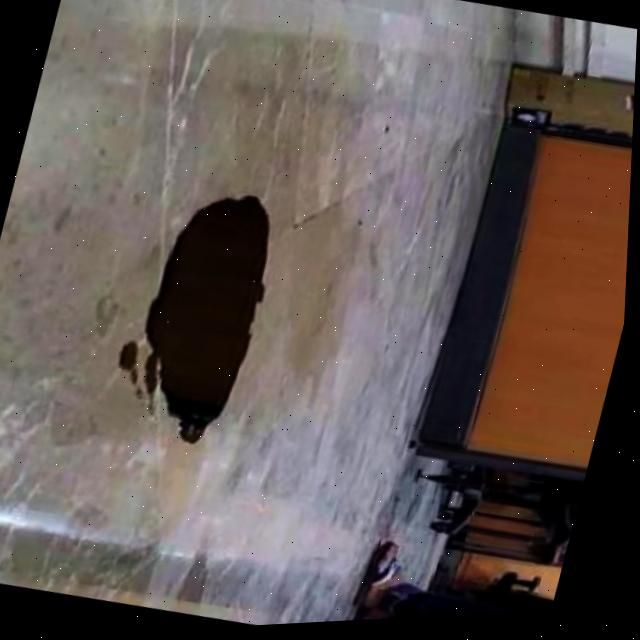spillage: (113, 188, 274, 452)
